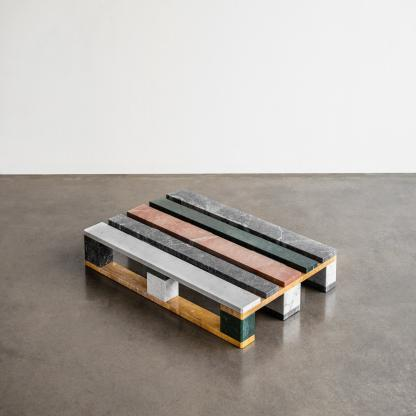BoxFace: (82, 183, 340, 353)
